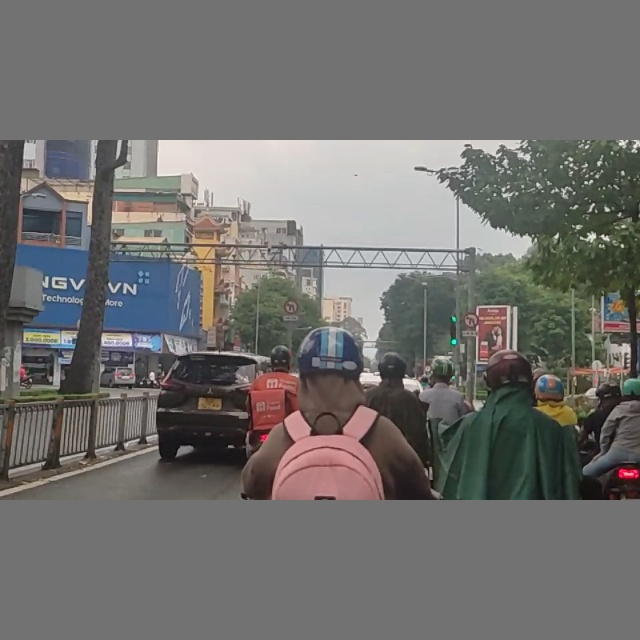P.124c: (281, 298, 299, 315), (464, 313, 479, 329)
